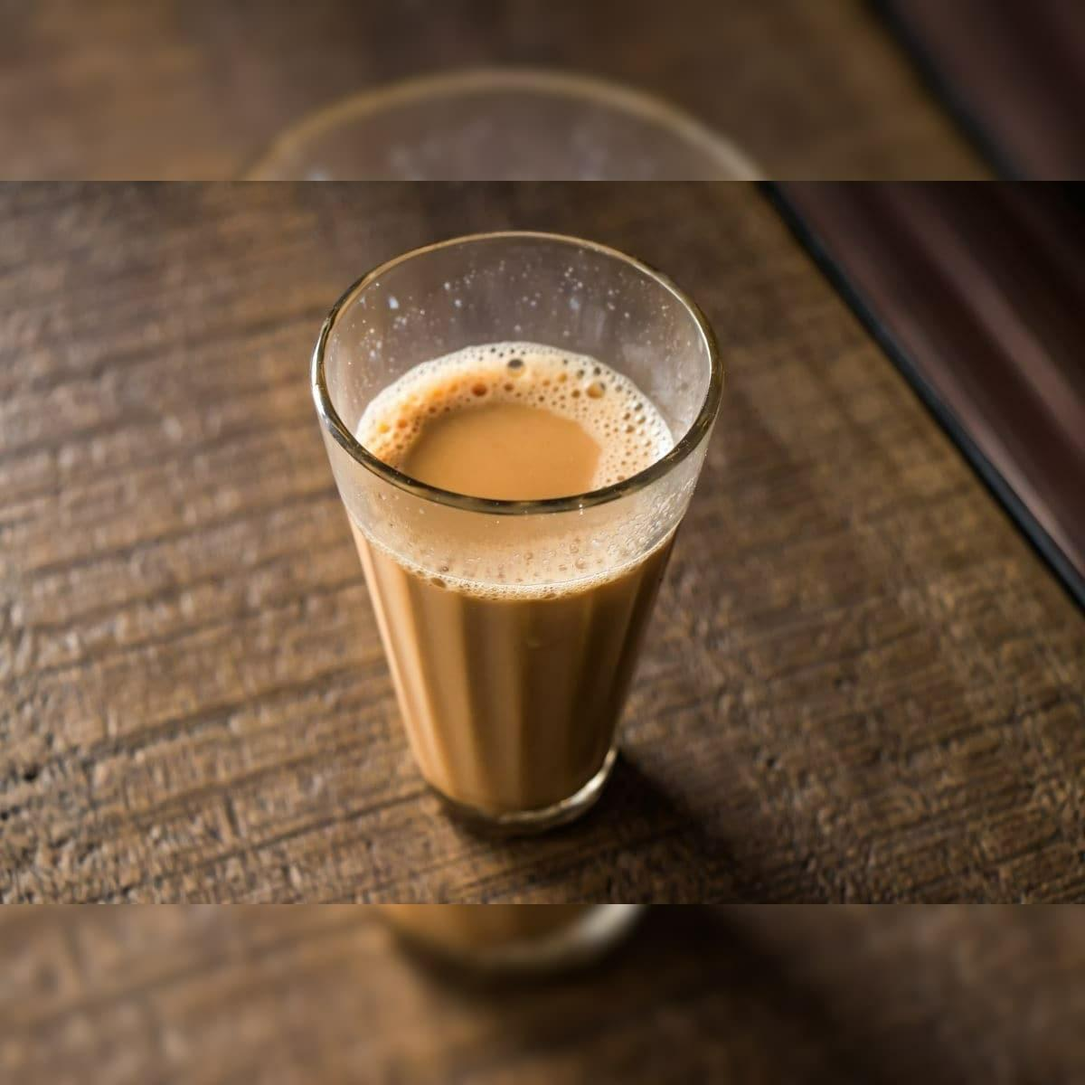Chai: (342, 338, 681, 811)
